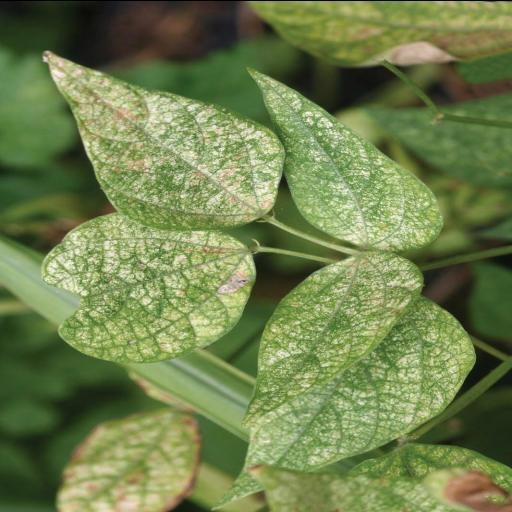disease_tomato: (208, 294, 476, 510), (40, 49, 286, 230), (243, 66, 443, 252), (239, 250, 425, 430), (40, 210, 256, 364)
